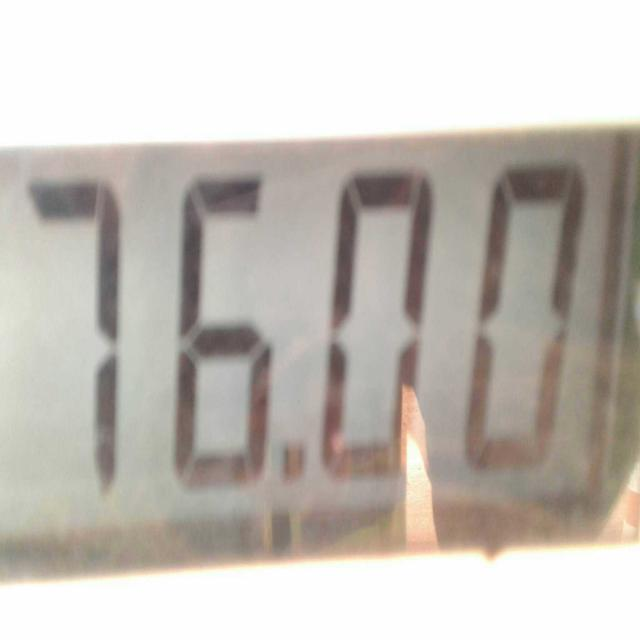.: (265, 403, 318, 493)
0: (312, 171, 442, 483), (464, 166, 598, 464)
6: (164, 185, 268, 481)
7: (28, 185, 134, 488)
